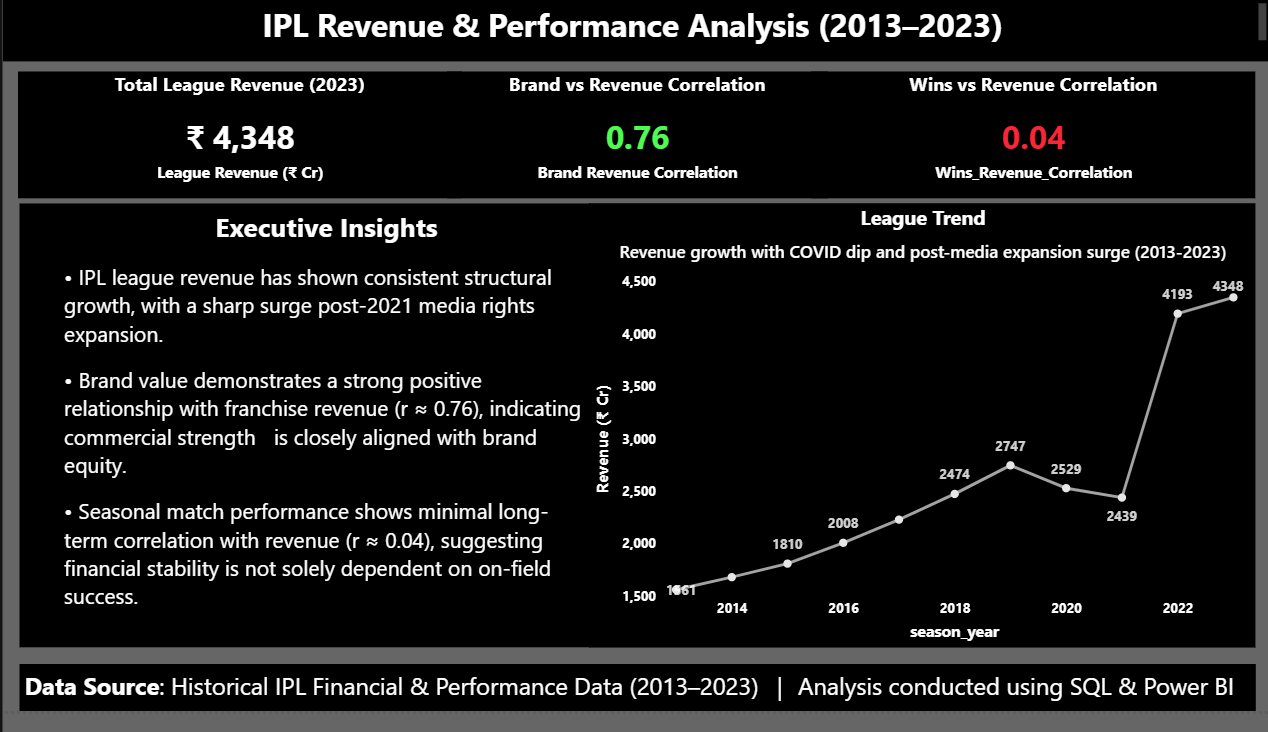

The dashboard page shown, as its layout file describes it:
{"tool":"powerbi","page":{"name":"Summary","canvas":[1280,720],"ordinal":4},"visuals":[{"type":"textbox","box":[0,0,1280,64],"z":0},{"type":"card","title":"Total League Revenue (2023)","fields":{"Values":["Sum(public vw_team_season_analysis.total_revenue)"]},"box":[15.6,74.2,448,128],"z":1},{"type":"card","title":"Brand vs Revenue Correlation","fields":{"Values":["public vw_team_season_analysis.Brand_Revenue_Correlation"]},"box":[447.6,74.2,384,128],"z":2},{"type":"card","title":"Wins vs Revenue Correlation","fields":{"Values":["public vw_team_season_analysis.Wins_Revenue_Correlation"]},"box":[815.6,74.2,448,128],"z":3},{"type":"textbox","box":[16,208,576,448],"z":4},{"type":"lineChart","title":"League Trend","fields":{"Y":["Sum(public vw_team_season_analysis.total_revenue)"],"Category":["public vw_team_season_analysis.season_year"]},"box":[592,208,672,448],"z":5},{"type":"textbox","box":[16,672,1248,48],"z":6}]}

Visuals, with their boxes in screenshot pixels (x1, y1, x2, y2), scaled from the page's 1280x720 canvas onto the 1268x732 screenshot:
textbox: 0,0,1267,65
"Total League Revenue (2023)" card: 15,75,459,206
"Brand vs Revenue Correlation" card: 443,75,824,206
"Wins vs Revenue Correlation" card: 808,75,1252,206
textbox: 16,211,586,667
"League Trend" lineChart: 586,211,1252,667
textbox: 16,683,1252,731
